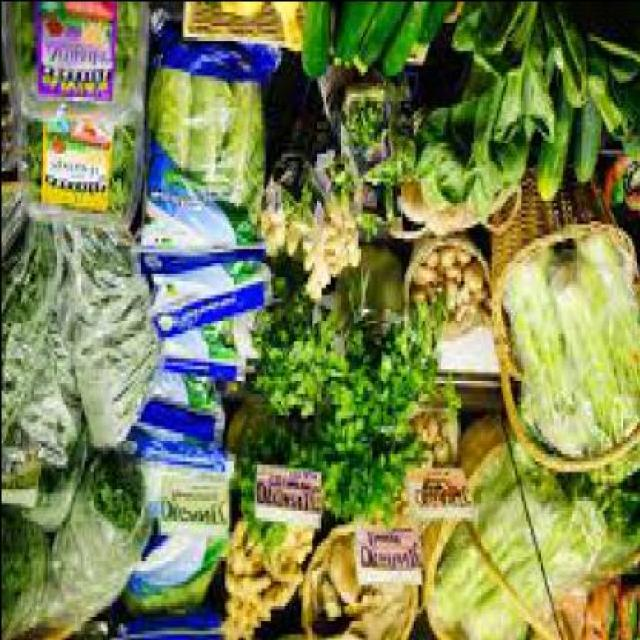BIODEGRADABLE: (412, 3, 550, 212), (432, 456, 565, 622), (545, 262, 638, 488), (460, 492, 602, 639), (51, 234, 148, 449), (256, 169, 355, 305), (247, 283, 336, 425), (568, 240, 638, 414), (320, 417, 417, 531), (322, 329, 426, 431), (499, 247, 548, 438), (396, 181, 510, 241), (1, 221, 51, 354), (214, 81, 258, 212), (81, 456, 142, 549), (536, 4, 586, 110), (585, 488, 638, 587), (184, 82, 230, 183), (1, 511, 42, 618), (534, 78, 568, 204), (143, 74, 186, 166), (36, 428, 86, 502), (587, 84, 638, 156), (376, 4, 422, 78), (244, 424, 318, 470), (354, 3, 400, 68), (126, 580, 209, 615), (568, 99, 600, 188), (329, 3, 371, 60), (297, 4, 328, 81), (575, 583, 617, 639), (368, 134, 408, 191), (108, 3, 132, 95), (108, 127, 132, 216), (344, 99, 384, 152), (326, 541, 357, 605), (2, 348, 30, 418), (256, 572, 299, 612), (14, 3, 32, 85), (324, 230, 354, 279), (279, 526, 313, 569), (234, 449, 252, 523), (22, 124, 40, 198), (238, 528, 280, 558), (416, 3, 447, 43), (612, 591, 638, 638), (256, 205, 278, 258), (585, 46, 603, 103), (221, 576, 267, 598), (342, 594, 382, 618), (218, 3, 260, 25), (302, 265, 327, 301), (608, 61, 638, 88), (228, 606, 255, 636), (265, 562, 297, 587), (315, 580, 334, 622), (220, 558, 258, 577), (281, 21, 297, 57), (281, 226, 297, 262), (218, 622, 251, 638), (461, 265, 479, 293), (414, 421, 435, 445), (226, 523, 240, 559), (297, 245, 315, 272), (270, 3, 292, 25), (412, 272, 433, 290), (441, 280, 454, 308), (223, 598, 237, 619), (432, 442, 445, 463), (438, 251, 452, 269), (453, 251, 465, 269), (442, 269, 456, 283), (419, 254, 433, 268), (471, 290, 484, 304), (255, 612, 268, 626), (453, 294, 465, 308), (466, 297, 474, 318), (454, 307, 463, 325), (408, 293, 422, 304)
